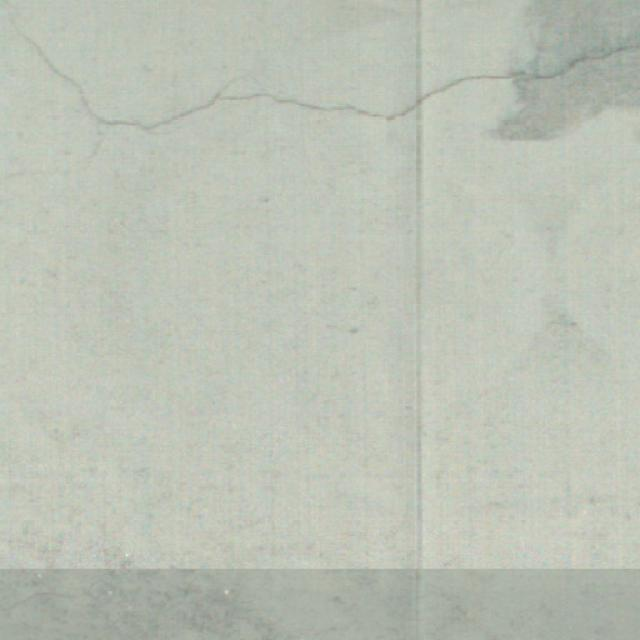Network: (0, 1, 640, 190)
